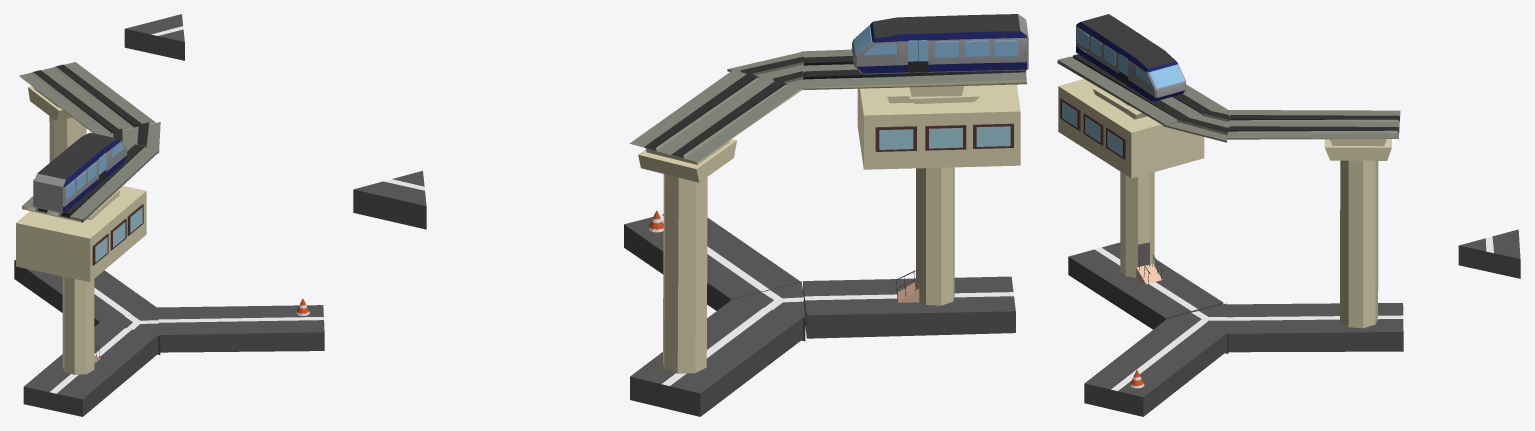
File: 14 nov metro road.fbx
3 renders of one model, left to right at view 1: azimuth 30°, elevation 25°; view 2: azimuth 150°, elevation 25°; view 3: azimuth 270°, elevation 25°, orthographic. The views are drawn at different scales.
Parts seen in each view (by area): view 1: Metro Station, ROAD2, pillar 1, ROAD1, Main metro.001, ROAD3, TRIANGULAR.001, triangular track, TRIANGULAR; view 2: Metro Station, pillar 1, ROAD1, Main metro.001, ROAD3, ROAD2, TRIANGULAR.001, triangular track, TRIANGULAR; view 3: Metro Station, pillar 1, ROAD3, ROAD2, ROAD1, Main metro.001, TRIANGULAR.001, triangular track, TRIANGULAR.
Boxes of the visible parts, <box> form: Metro Station: <box>16,141,158,374</box>; ROAD2: <box>157,305,324,352</box>; pillar 1: <box>19,62,155,162</box>; ROAD1: <box>23,322,157,416</box>; Main metro.001: <box>33,132,127,213</box>; ROAD3: <box>14,260,156,326</box>; TRIANGULAR.001: <box>124,14,184,60</box>; triangular track: <box>103,122,160,153</box>; TRIANGULAR: <box>98,307,160,354</box>; Metro Station: <box>801,49,1026,305</box>; pillar 1: <box>629,70,802,373</box>; ROAD1: <box>803,276,1015,338</box>; Main metro.001: <box>851,14,1028,74</box>; ROAD3: <box>630,300,802,416</box>; ROAD2: <box>624,214,800,310</box>; TRIANGULAR.001: <box>353,170,426,229</box>; triangular track: <box>727,52,804,89</box>; TRIANGULAR: <box>730,281,805,341</box>; Metro Station: <box>1057,54,1227,284</box>; pillar 1: <box>1227,110,1400,328</box>; ROAD3: <box>1226,303,1403,352</box>; ROAD2: <box>1084,319,1226,416</box>; ROAD1: <box>1068,242,1223,329</box>; Main metro.001: <box>1076,14,1186,101</box>; TRIANGULAR.001: <box>1458,229,1520,278</box>; triangular track: <box>1163,110,1228,142</box>; TRIANGULAR: <box>1164,303,1228,353</box>.
Size of the model in its own units: 199 by 129 by 217.
